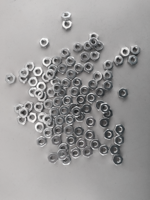nut: (113, 155, 124, 166), (85, 117, 96, 128), (61, 155, 72, 166), (48, 153, 59, 164), (39, 38, 50, 49), (62, 20, 73, 31), (118, 88, 129, 99), (5, 74, 16, 85), (100, 103, 111, 114), (43, 99, 54, 110), (59, 106, 70, 117), (65, 115, 76, 126), (53, 125, 64, 136), (43, 128, 54, 139), (34, 122, 45, 133), (34, 102, 45, 113), (74, 126, 84, 138), (72, 106, 82, 118), (42, 115, 54, 125), (110, 145, 121, 155), (99, 145, 109, 156), (90, 140, 101, 150), (83, 147, 93, 158), (85, 130, 95, 141), (100, 118, 110, 129), (77, 139, 87, 150), (71, 148, 81, 159), (57, 150, 68, 160), (58, 144, 69, 154), (66, 135, 76, 146), (120, 48, 131, 58), (114, 56, 125, 66), (104, 60, 114, 71), (84, 63, 94, 74), (103, 71, 114, 81), (96, 87, 106, 98), (88, 79, 98, 90), (73, 42, 83, 53), (60, 48, 71, 58), (72, 78, 83, 88), (87, 93, 97, 104), (70, 87, 80, 98), (46, 69, 56, 80), (52, 83, 63, 93), (33, 67, 44, 77), (36, 82, 47, 92), (76, 95, 86, 106), (53, 97, 64, 107), (55, 116, 66, 126), (46, 119, 56, 130), (52, 135, 62, 146), (37, 136, 47, 147), (59, 106, 70, 116), (37, 112, 47, 123), (19, 107, 29, 118), (115, 125, 125, 135), (104, 130, 114, 140), (131, 45, 141, 55), (103, 81, 113, 91), (93, 72, 103, 82), (94, 41, 104, 51), (81, 52, 91, 62), (66, 57, 76, 67), (52, 56, 62, 66), (66, 70, 76, 80), (74, 64, 84, 74), (80, 86, 90, 96), (28, 77, 38, 87), (25, 62, 35, 72), (19, 68, 29, 78), (34, 89, 44, 99), (82, 104, 92, 114), (62, 96, 72, 106), (75, 112, 85, 122), (64, 126, 74, 136), (24, 102, 34, 112), (27, 113, 37, 123), (17, 115, 27, 125), (50, 107, 60, 117), (62, 78, 71, 89), (115, 136, 124, 146), (62, 12, 72, 21), (129, 55, 138, 65), (89, 38, 99, 47), (91, 51, 100, 61), (58, 64, 67, 74), (43, 57, 52, 67), (51, 77, 61, 86), (47, 88, 56, 98), (42, 73, 51, 83), (28, 88, 38, 97), (19, 74, 28, 84), (38, 92, 47, 102), (58, 88, 67, 98), (104, 109, 113, 119), (95, 101, 104, 111), (14, 104, 23, 114), (90, 33, 99, 42), (69, 104, 78, 113), (48, 65, 58, 73), (84, 42, 92, 51)
